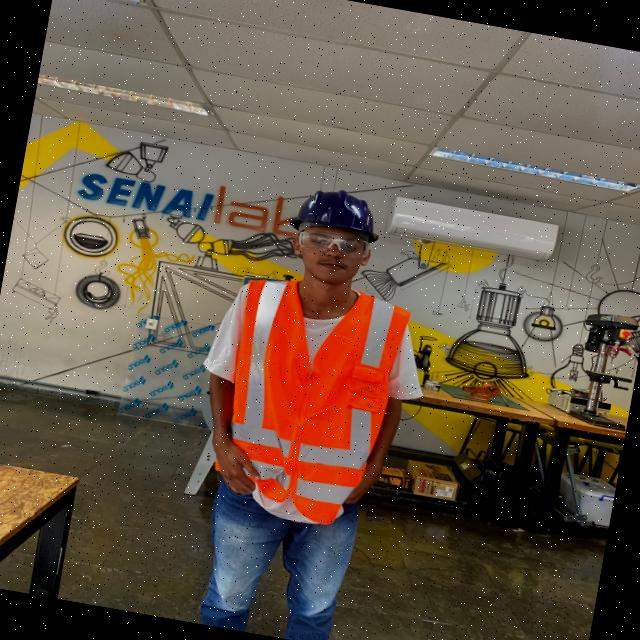CAPACETE: (286, 187, 382, 245)
COLETE: (211, 275, 419, 526)
OCULOS: (292, 226, 377, 260)
SEM LUVA: (207, 435, 261, 495), (342, 452, 381, 507)
